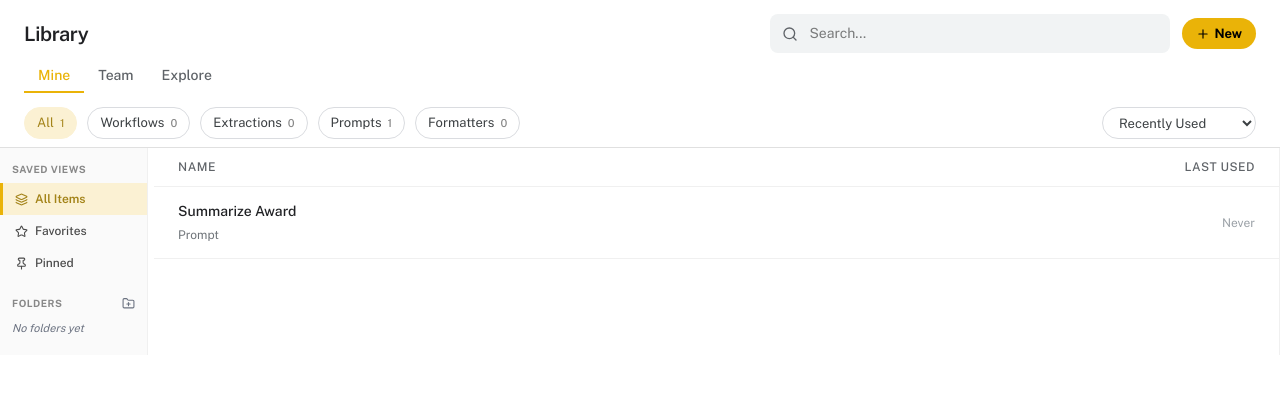
Test case: LibraryTab prompt preview › opens a preview on row click instead of sending to chat
Click the text "Summarize Award" at (237, 211), box x1=178 y1=203 x2=296 y2=219
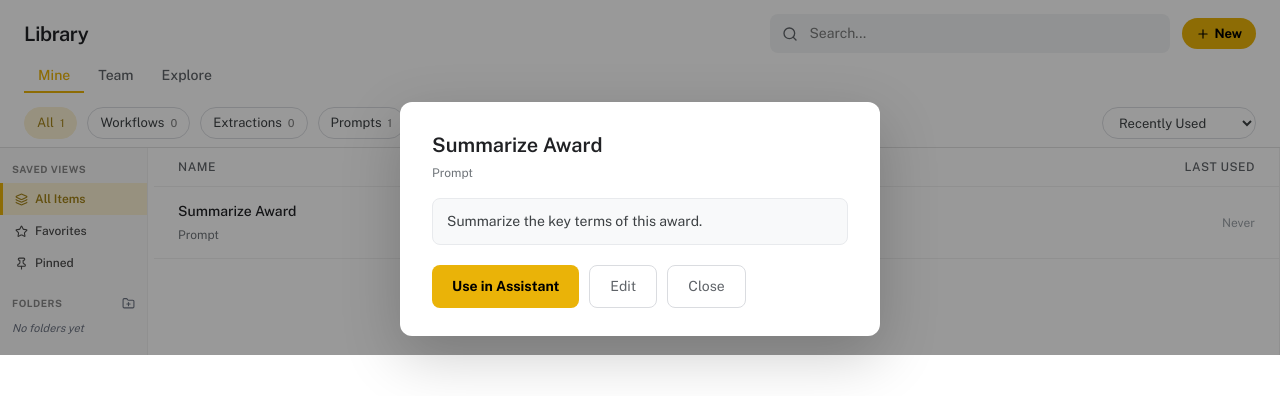
Result: the text "Summarize the key terms of this award." is shown at x1=432 y1=198 x2=848 y2=245
Result: the button "Use in Assistant" is shown at x1=432 y1=265 x2=579 y2=308
